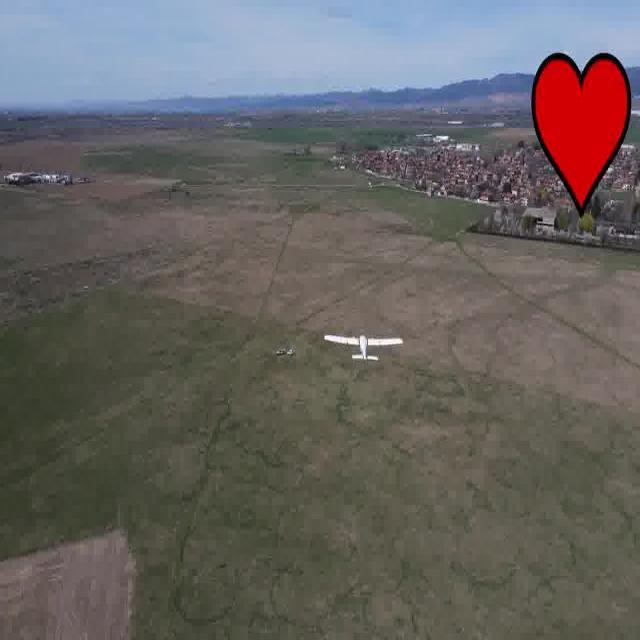iha: (354, 324, 374, 376)
